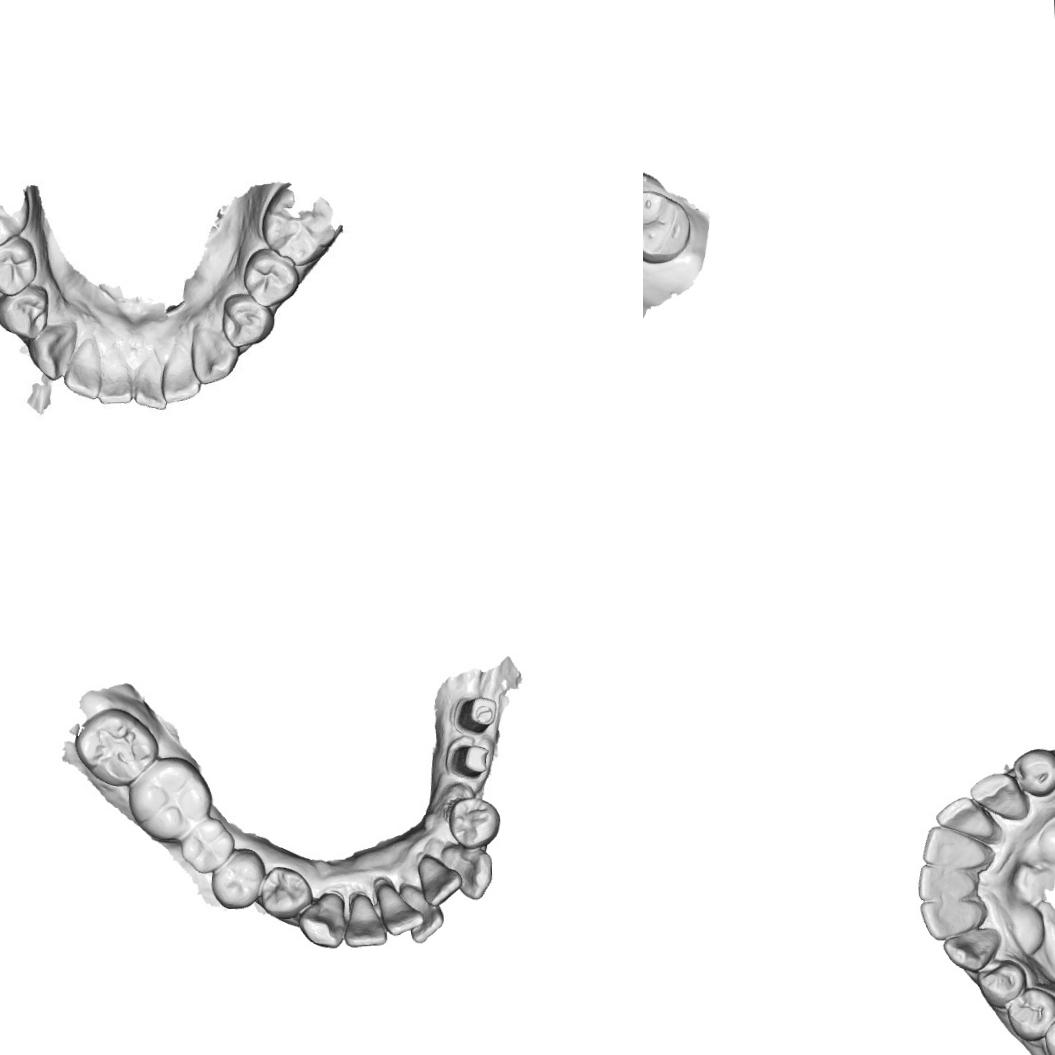abutment: (454, 690, 499, 740), (450, 740, 495, 779)
canine: (965, 769, 1030, 825), (440, 841, 496, 902), (296, 890, 351, 950), (188, 326, 236, 394), (940, 924, 1004, 975), (29, 324, 76, 382)
incisor: (918, 822, 990, 872), (915, 896, 986, 942), (374, 876, 423, 940), (934, 794, 999, 842), (914, 860, 980, 904), (414, 850, 464, 907), (401, 879, 444, 944), (343, 891, 388, 948), (60, 344, 101, 404), (162, 337, 200, 397), (131, 355, 168, 414), (97, 356, 132, 410)
molar: (124, 754, 216, 847), (70, 705, 162, 790), (260, 176, 337, 262), (643, 187, 692, 265), (178, 815, 236, 875), (0, 194, 36, 249)
premolar: (240, 248, 298, 311), (210, 847, 268, 910), (216, 291, 275, 350), (970, 955, 1032, 1011), (0, 284, 55, 343), (1003, 983, 1055, 1045), (448, 793, 504, 850), (258, 864, 314, 920), (1011, 744, 1055, 799), (0, 237, 39, 296)
